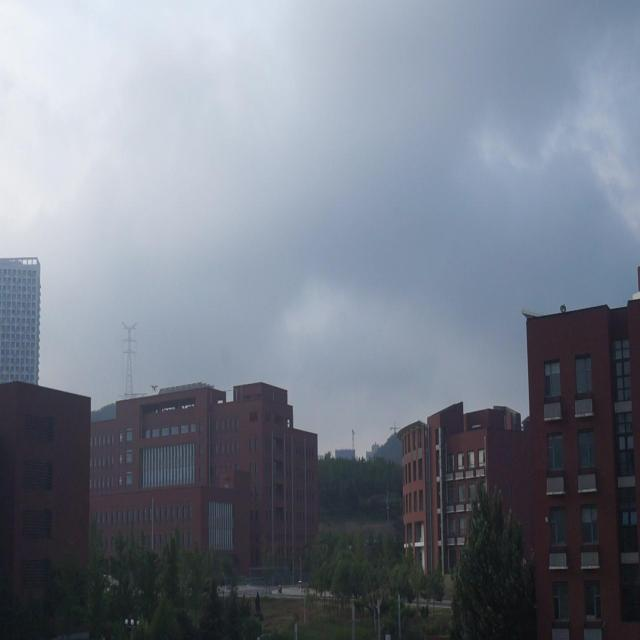drone: (150, 381, 160, 394)
